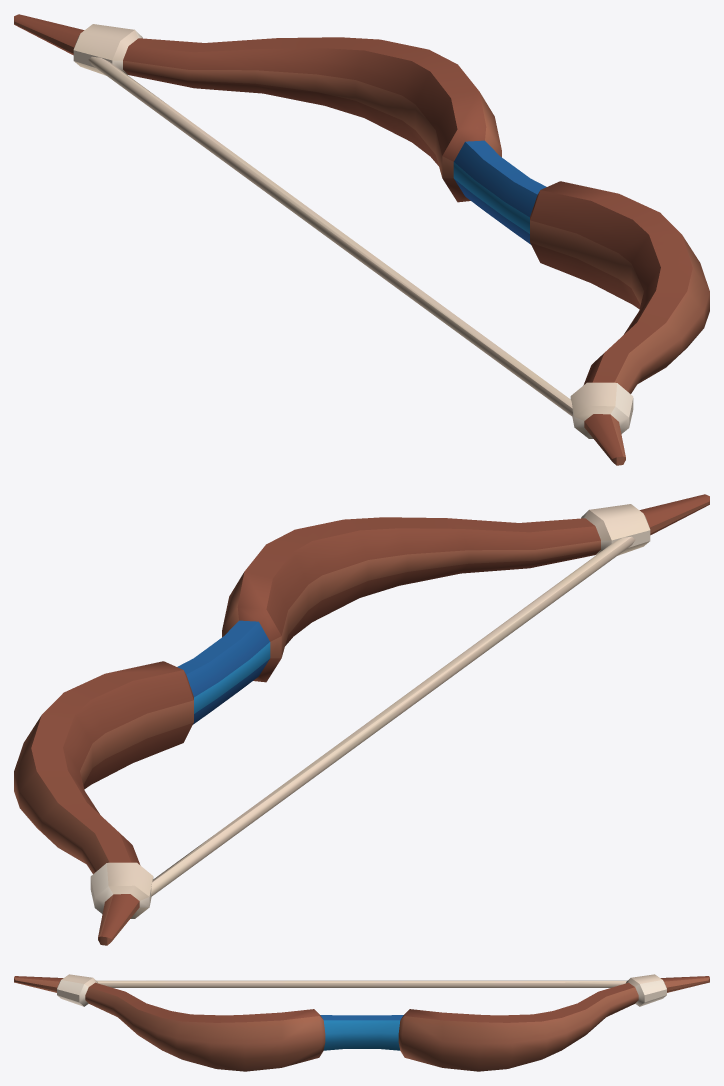
File: kaykit-bow-withstring.glb
The picture shows the model from 3 angles, top to bottom: view 1: azimuth 30°, elevation 25°; view 2: azimuth 150°, elevation 25°; view 3: azimuth 270°, elevation 25°; orthographic projection. The views are drawn at different scales.
Visible parts, largest first — view 1: bow_withString; view 2: bow_withString; view 3: bow_withString.
Part boxes in pixels (x1,y1,x2,y2): bow_withString: [14, 14, 709, 465]; bow_withString: [14, 494, 709, 945]; bow_withString: [14, 974, 709, 1071].
Size of the model in its own units: 0.4944 by 0.1555 by 1.98.
1 material, 1 textured.
